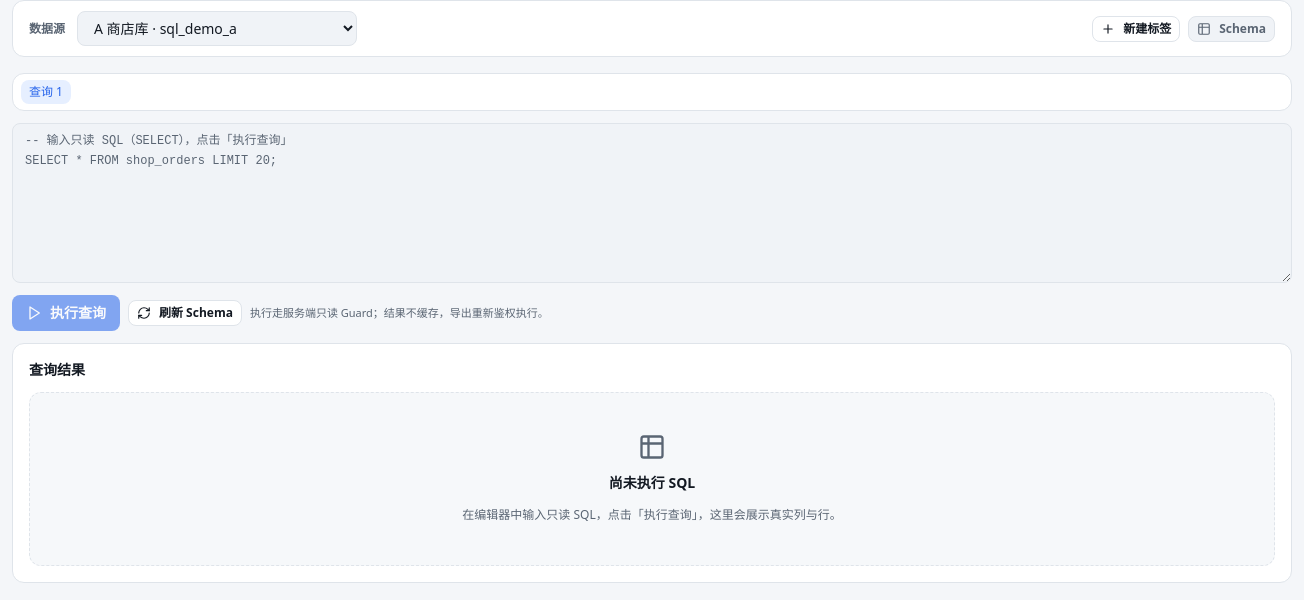
Scenario: SqlConsolePage 多标签 SQL 工作台 › 多标签互不串数据：切换标签后 SQL 与结果独立
expect the dropdown labelled "数据源" is shown: met, box [77,11,357,46]
Type "SELECT 1 AS a" into the text box with placeholder "输入只读 SQL" at x=652, y=203, box [12,123,1292,283]
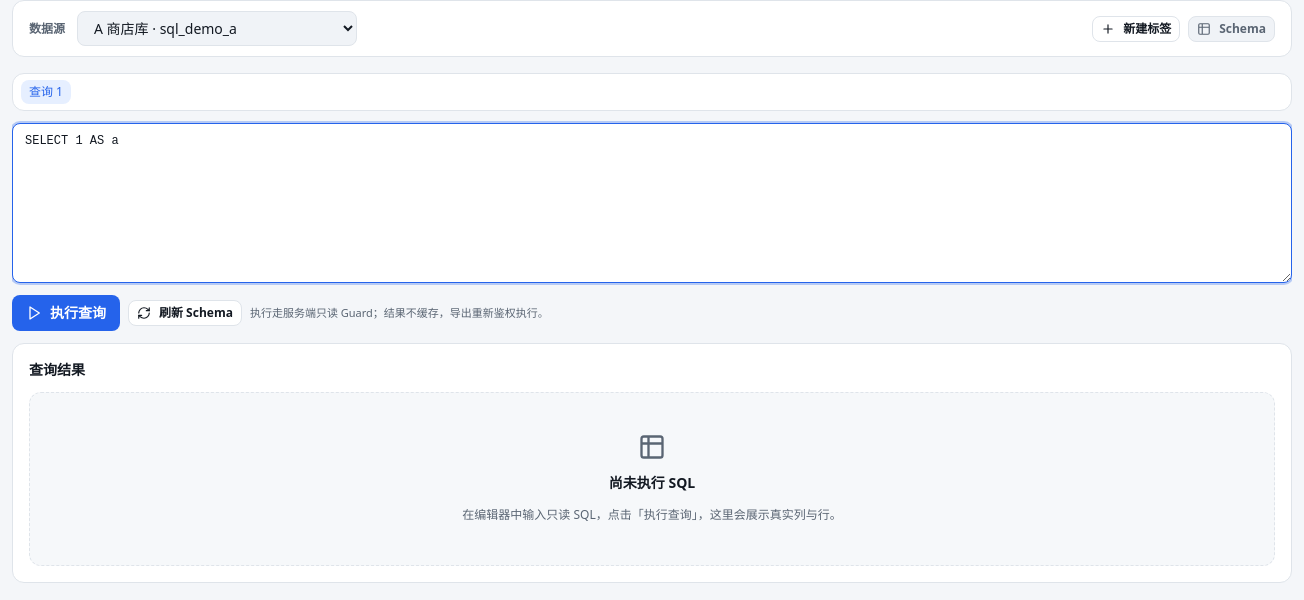
Click the button "执行查询" at x=66, y=313, box [12,295,120,331]
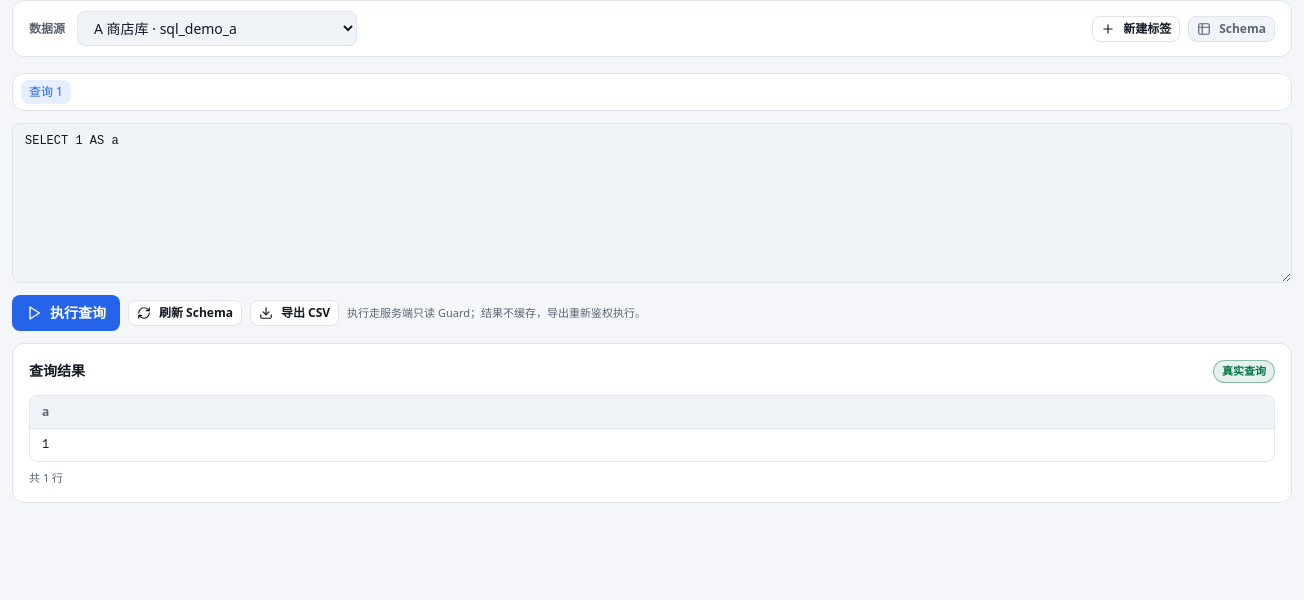
expect the text "真实查询" is shown: met, box [1213,360,1275,382]
Click the button "新建标签" at x=1136, y=28, box [1092,16,1180,42]
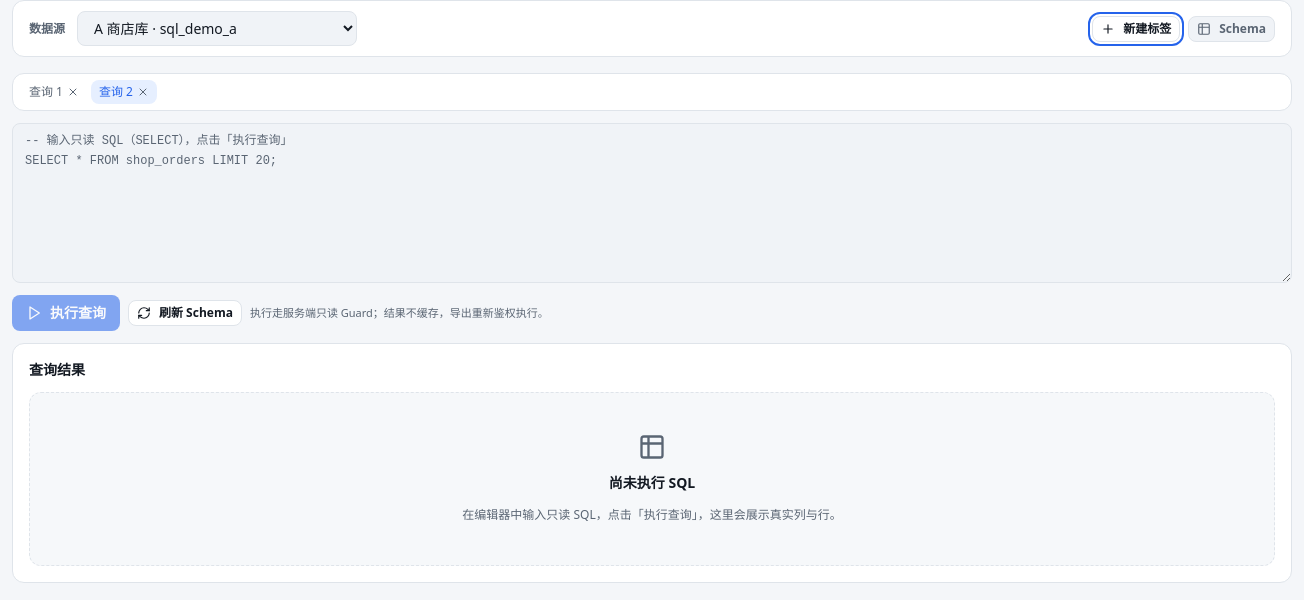
expect the button "查询 2" is shown: met, box [99,84,133,100]
expect the text box with placeholder "输入只读 SQL" is empty: met, box [12,123,1292,283]
切回标签 1，SQL 与结果仍在
Click the button "查询 1" at x=46, y=92, box [29,84,63,100]
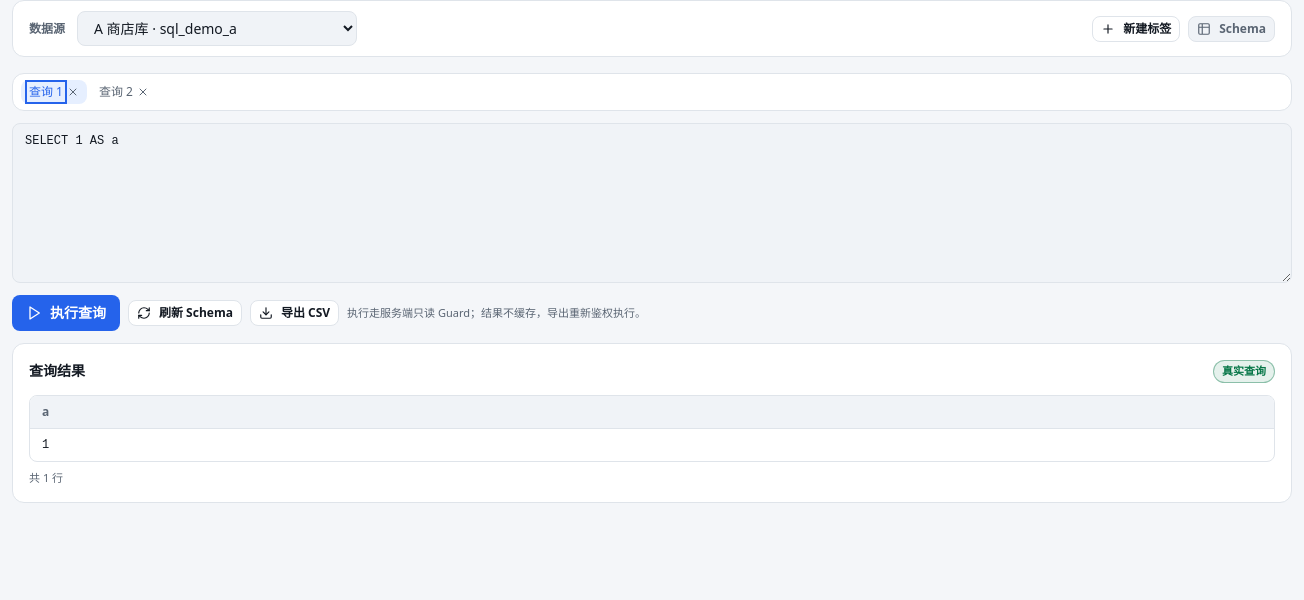
expect the text "真实查询" is shown: met, box [1213,360,1275,382]
